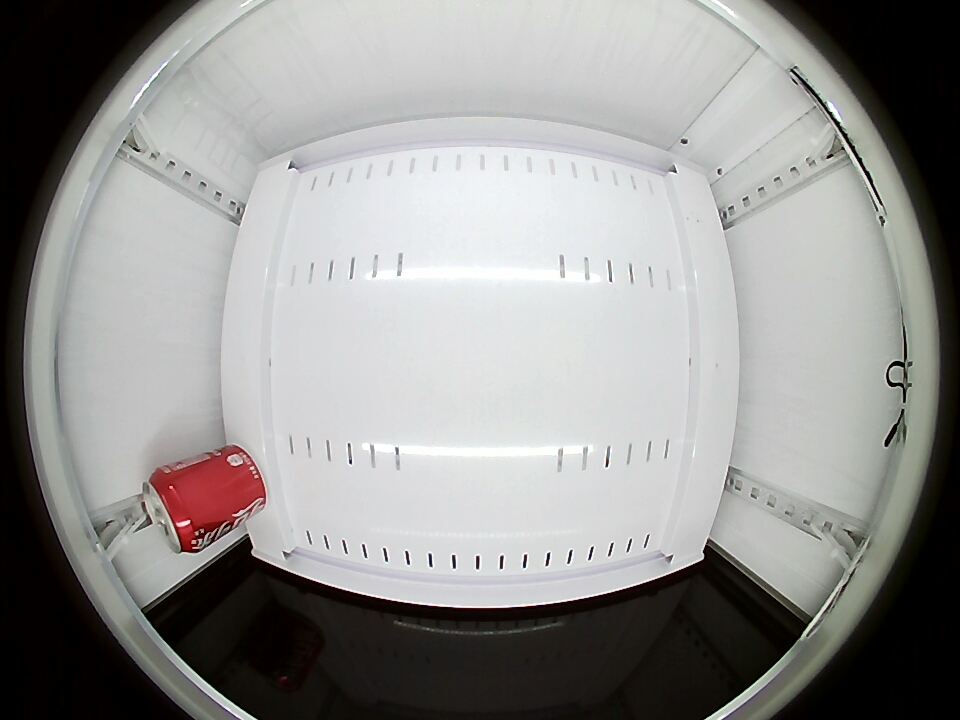kele: (142, 464, 208, 554)
